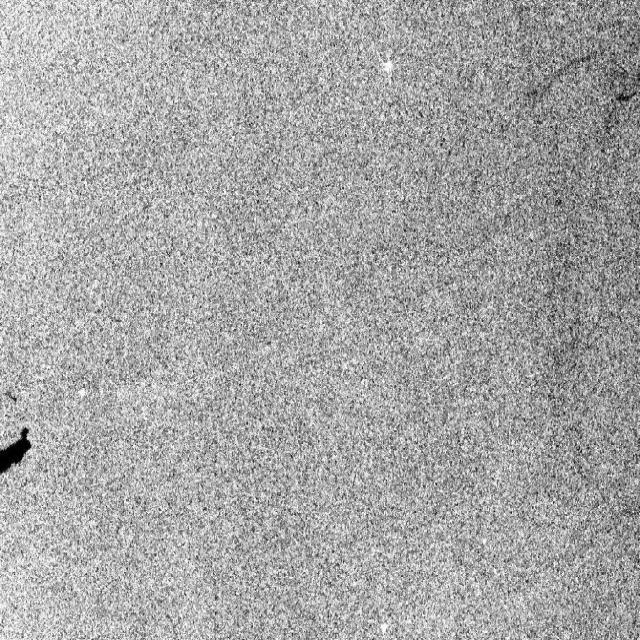oil-spill: (1, 416, 32, 478)
ship: (367, 41, 401, 90), (70, 376, 93, 411), (376, 606, 392, 638)
